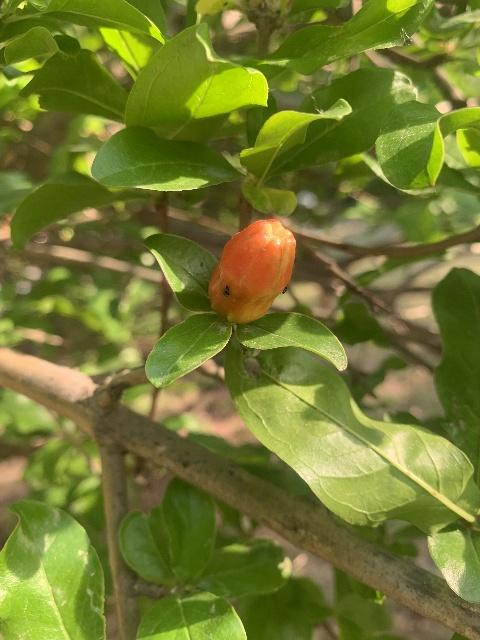bud: (208, 218, 295, 325)
